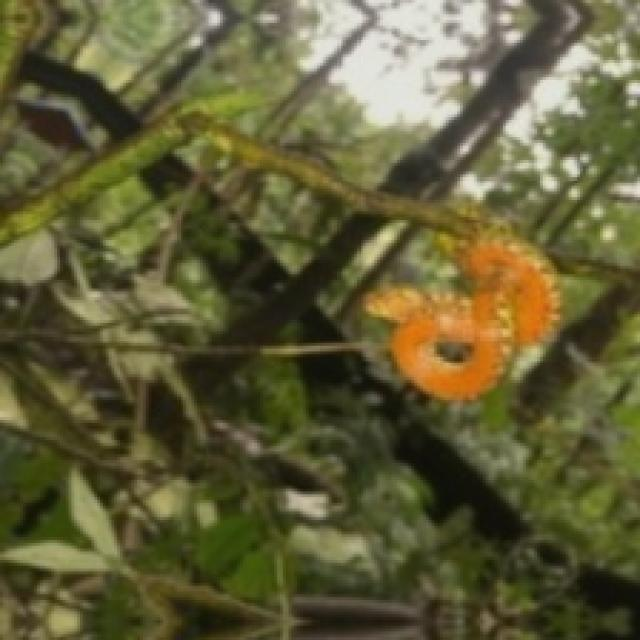philippine pitviper: (366, 237, 560, 397)
